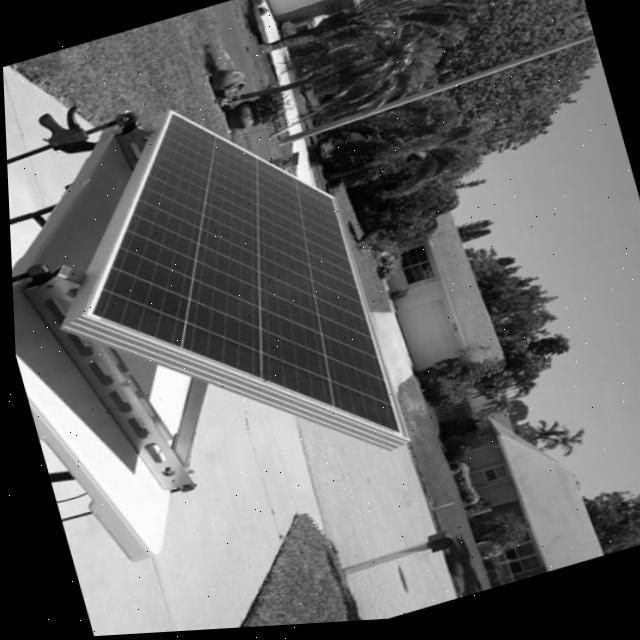Normal Solar Panel: (32, 71, 404, 523)
